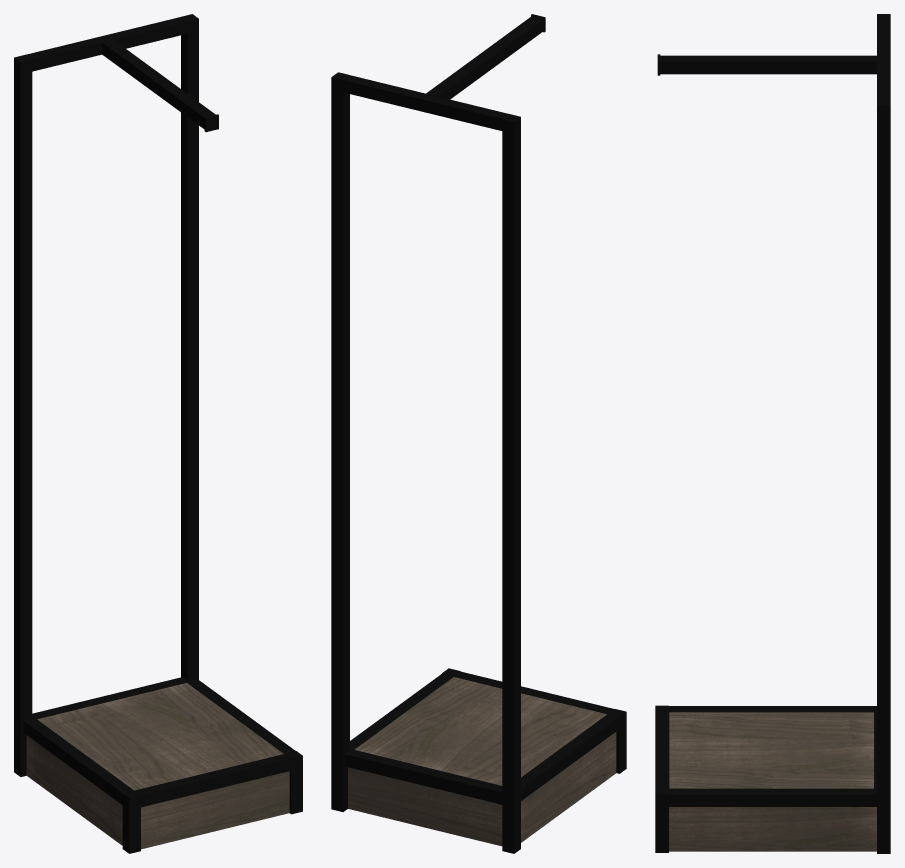
File: Clothes rack 1.fbx
3 renders of one model, left to right at view 1: azimuth 30°, elevation 25°; view 2: azimuth 150°, elevation 25°; view 3: azimuth 270°, elevation 25°, orthographic. The views are drawn at different scales.
Parts seen in each view (by area): view 1: Clothes rack 1; view 2: Clothes rack 1; view 3: Clothes rack 1.
Part boxes in pixels (x1,y1,x2,y2): Clothes rack 1: (14, 14, 302, 853); Clothes rack 1: (331, 14, 626, 853); Clothes rack 1: (655, 14, 890, 853).
Bounding box in the file's own units: 40.39 × 155 × 44.1.
Materials: 2 (1 with a texture image).
